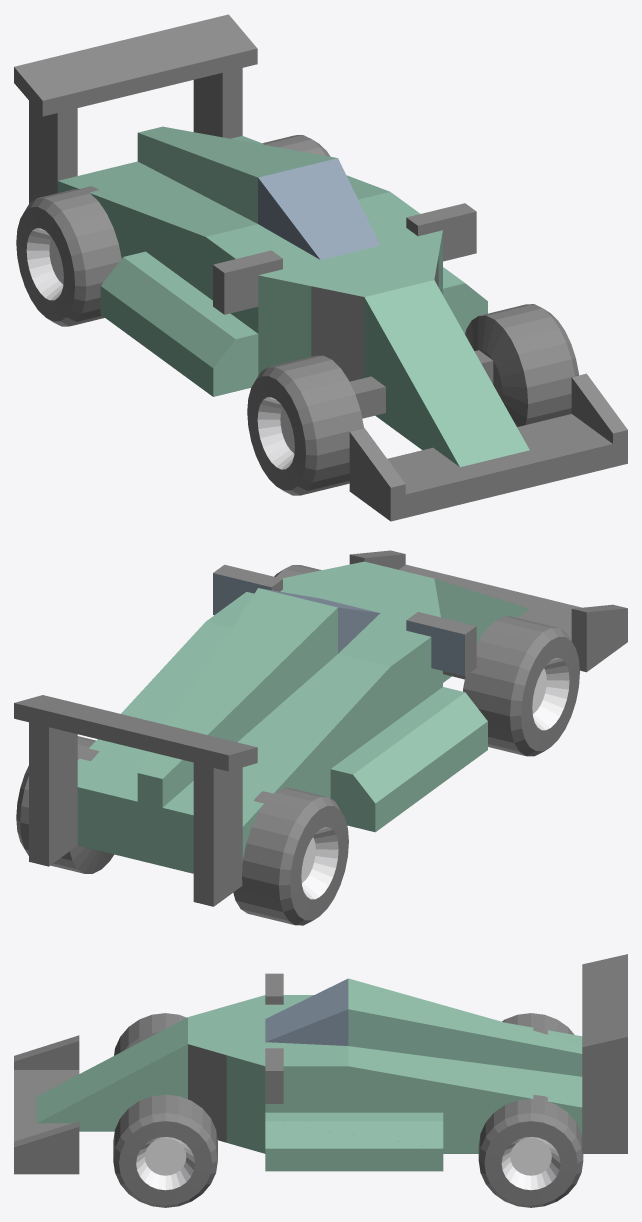
The model's file is racecar_green.glb.
3 renders of one model, top to bottom at view 1: azimuth 30°, elevation 25°; view 2: azimuth 150°, elevation 25°; view 3: azimuth 270°, elevation 25°, orthographic. The views are drawn at different scales.
Parts seen in each view (by area): view 1: body, wheel_fl_mesh, wheel_rl_mesh, wheel_fr_mesh, wheel_rr_mesh; view 2: body, wheel_fl_mesh, wheel_rl_mesh, wheel_rr_mesh; view 3: body, wheel_fr_mesh, wheel_rr_mesh, wheel_fl_mesh, wheel_rl_mesh.
Boxes of the visible parts, <box> form: body: <box>14,14,627,521</box>; wheel_fl_mesh: <box>247,355,363,495</box>; wheel_rl_mesh: <box>16,186,121,326</box>; wheel_fr_mesh: <box>465,304,578,426</box>; wheel_rr_mesh: <box>262,135,330,156</box>; body: <box>14,550,627,906</box>; wheel_fl_mesh: <box>463,616,579,756</box>; wheel_rl_mesh: <box>233,788,348,925</box>; wheel_rr_mesh: <box>16,736,114,873</box>; body: <box>14,954,627,1174</box>; wheel_fr_mesh: <box>113,1094,217,1207</box>; wheel_rr_mesh: <box>478,1095,583,1207</box>; wheel_fl_mesh: <box>114,1013,186,1055</box>; wheel_rl_mesh: <box>502,1013,574,1034</box>.
Bounding box in the file's own units: 1.48 × 1.07 × 3.63.
Materials: 1 (1 with a texture image).
